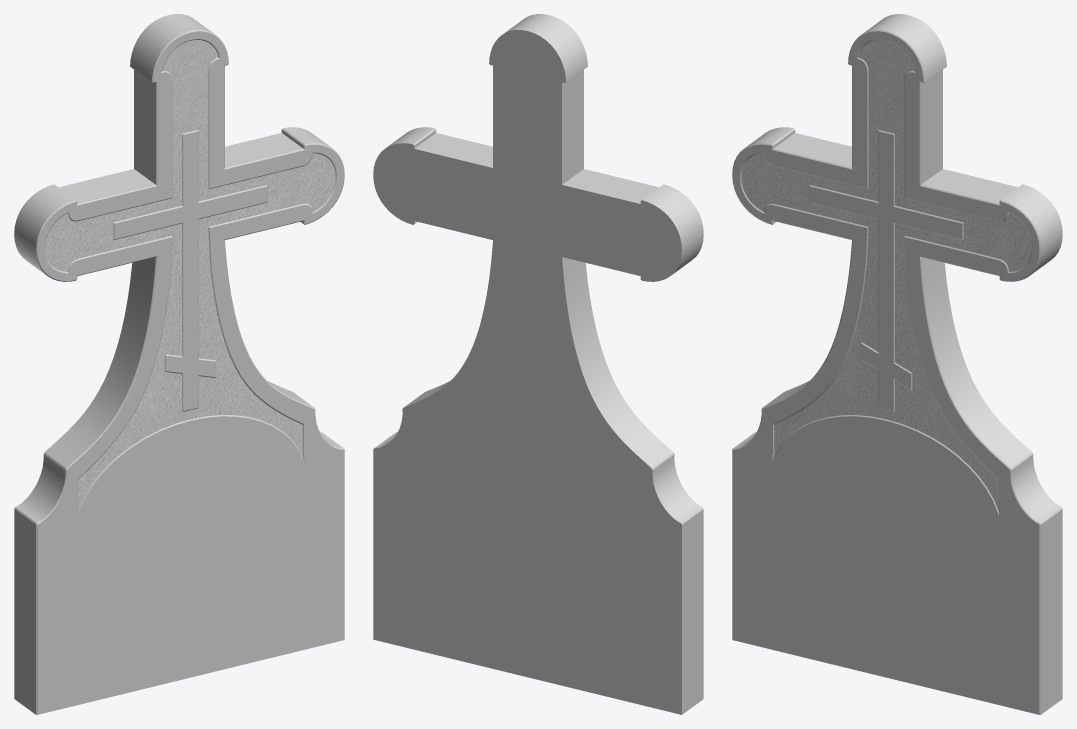
Rendered from cnae4627294d_tkf.glb.
The picture shows the model from 3 angles, left to right: view 1: azimuth 30°, elevation 25°; view 2: azimuth 150°, elevation 25°; view 3: azimuth 330°, elevation 25°; orthographic projection.
Parts seen in each view (by area): view 1: Pam-k-033, Pam-k-033_2_notexture; view 2: Pam-k-033; view 3: Pam-k-033, Pam-k-033_2_notexture.
Boxes of the visible parts, x1=… form: Pam-k-033: x1=14, y1=14, x2=344, y2=714; Pam-k-033_2_notexture: x1=45, y1=40, x2=335, y2=510; Pam-k-033: x1=373, y1=14, x2=703, y2=714; Pam-k-033: x1=732, y1=14, x2=1062, y2=714; Pam-k-033_2_notexture: x1=741, y1=40, x2=1031, y2=510.
Bounding box in the file's own units: 0.4 × 0.8 × 0.05.
Materials: 1 (1 with a texture image).
